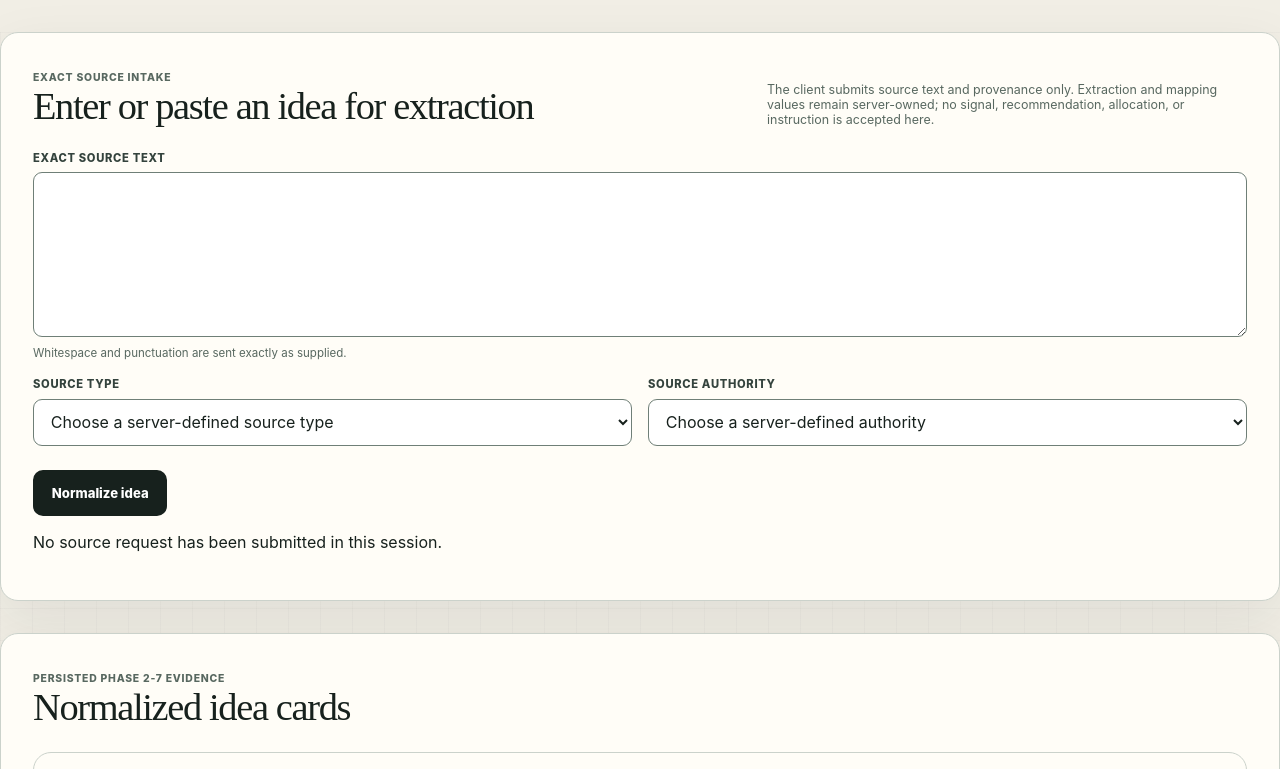
Test: Idea Intake workspace › fails closed when card lookup swaps source identity lineage
This screenshot has width=1280, height=769.
Type "Rank a synthetic universe using lagged evidence." into the text box labelled "Exact source text" at (640, 255), box 33,172 -> 1247,337
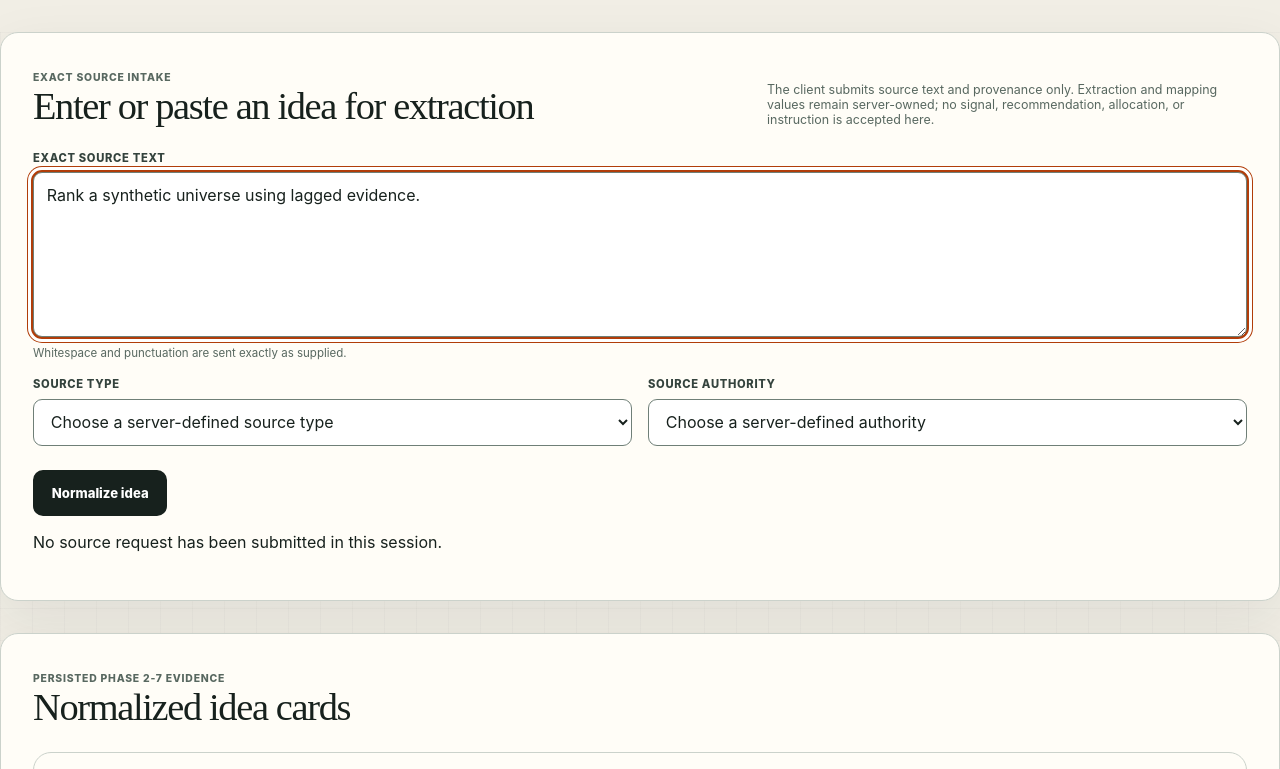
Select "manual notes" in the dropdown labelled "Source type" at (332, 422), box 33,398 -> 632,446
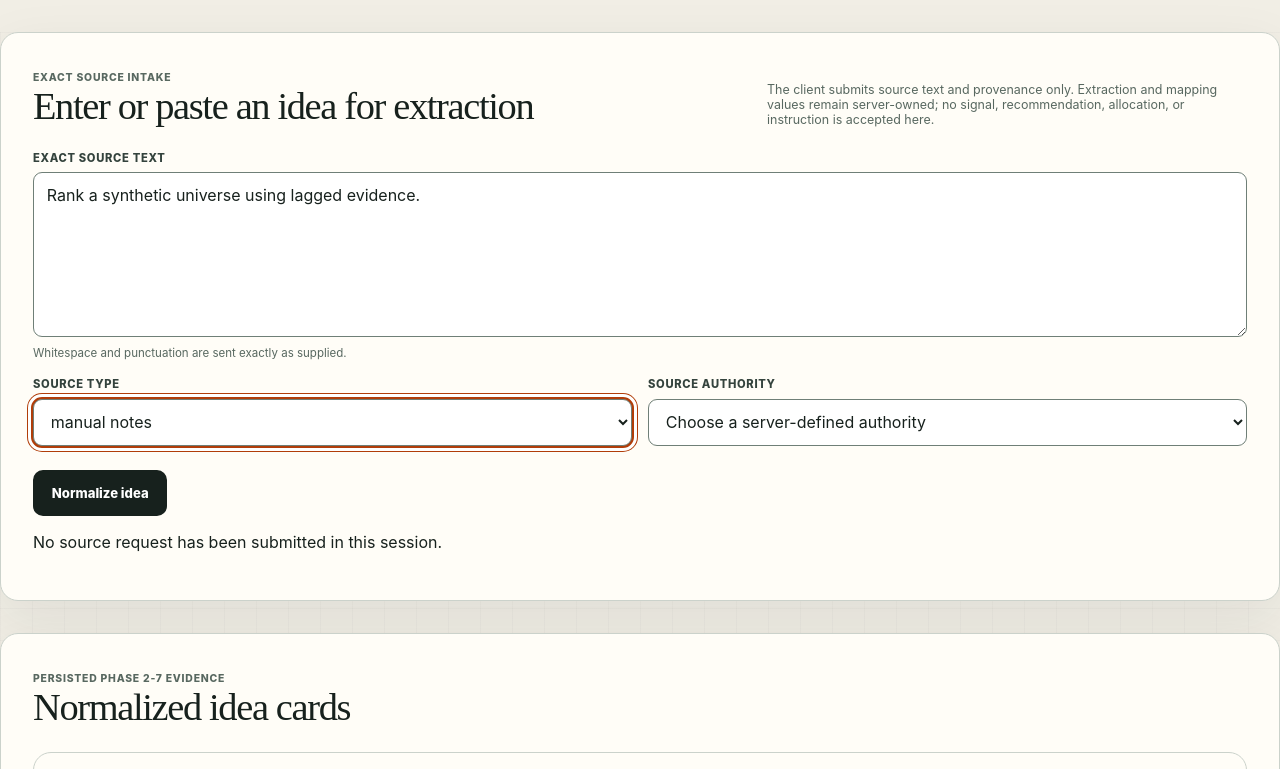
Select "unknown" in the dropdown labelled "Source authority" at (948, 422), box 648,398 -> 1247,446
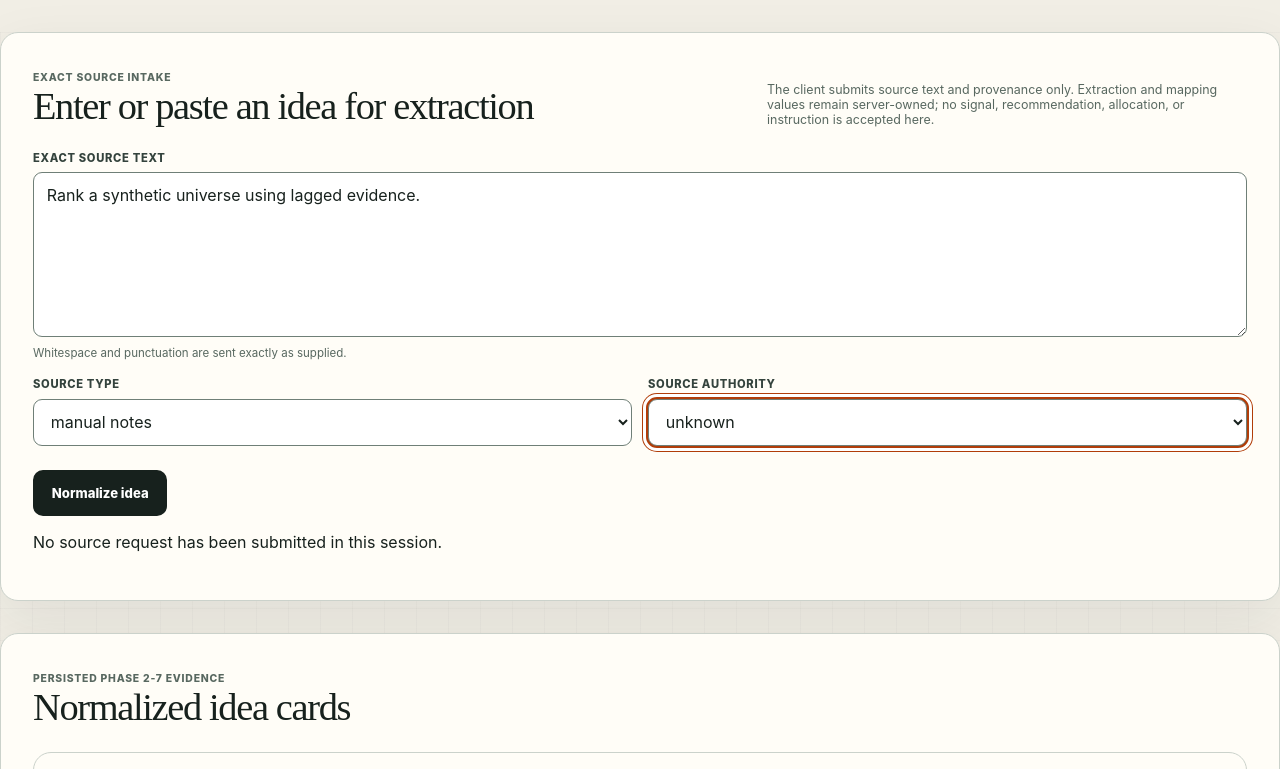
Click the button "Normalize idea" at (100, 493), box 33,470 -> 168,516
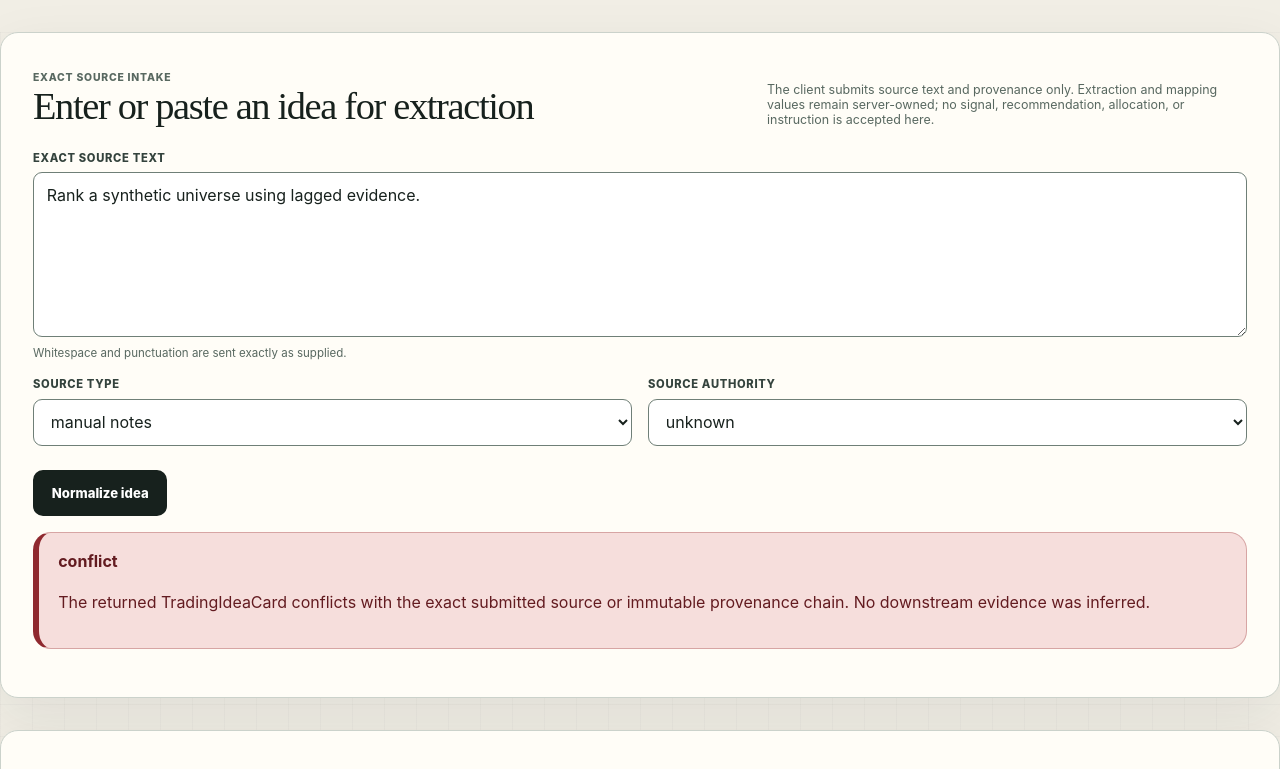
Expected: the text "conflict" is shown, 58,551 -> 118,571
Expected: the text "returned TradingIdeaCard conflicts" is shown, 58,592 -> 1150,612
